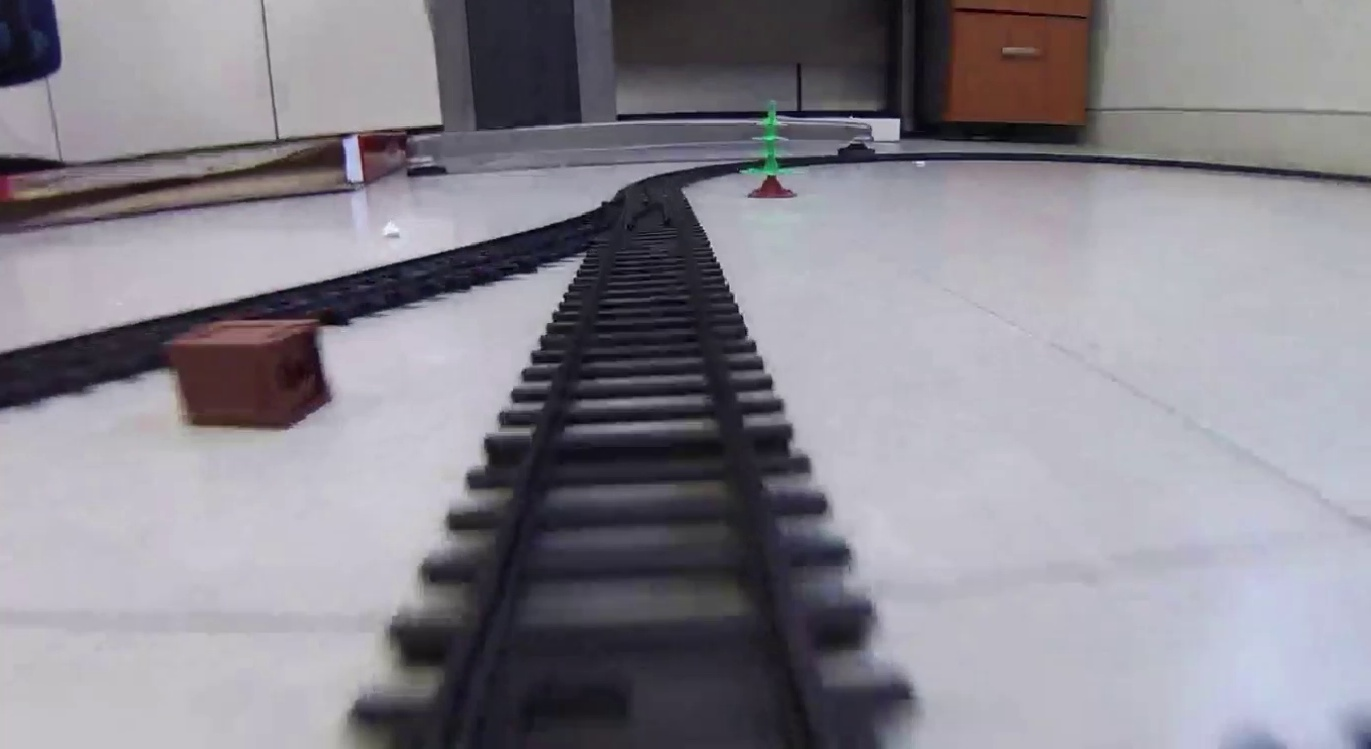box: (171, 321, 337, 426)
tree: (740, 100, 802, 200)
